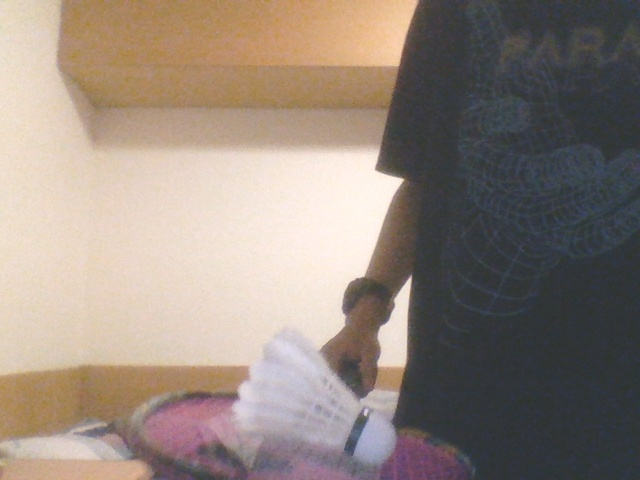human: (318, 1, 640, 398)
racket: (126, 361, 478, 480)
shuttle: (229, 325, 396, 464)
